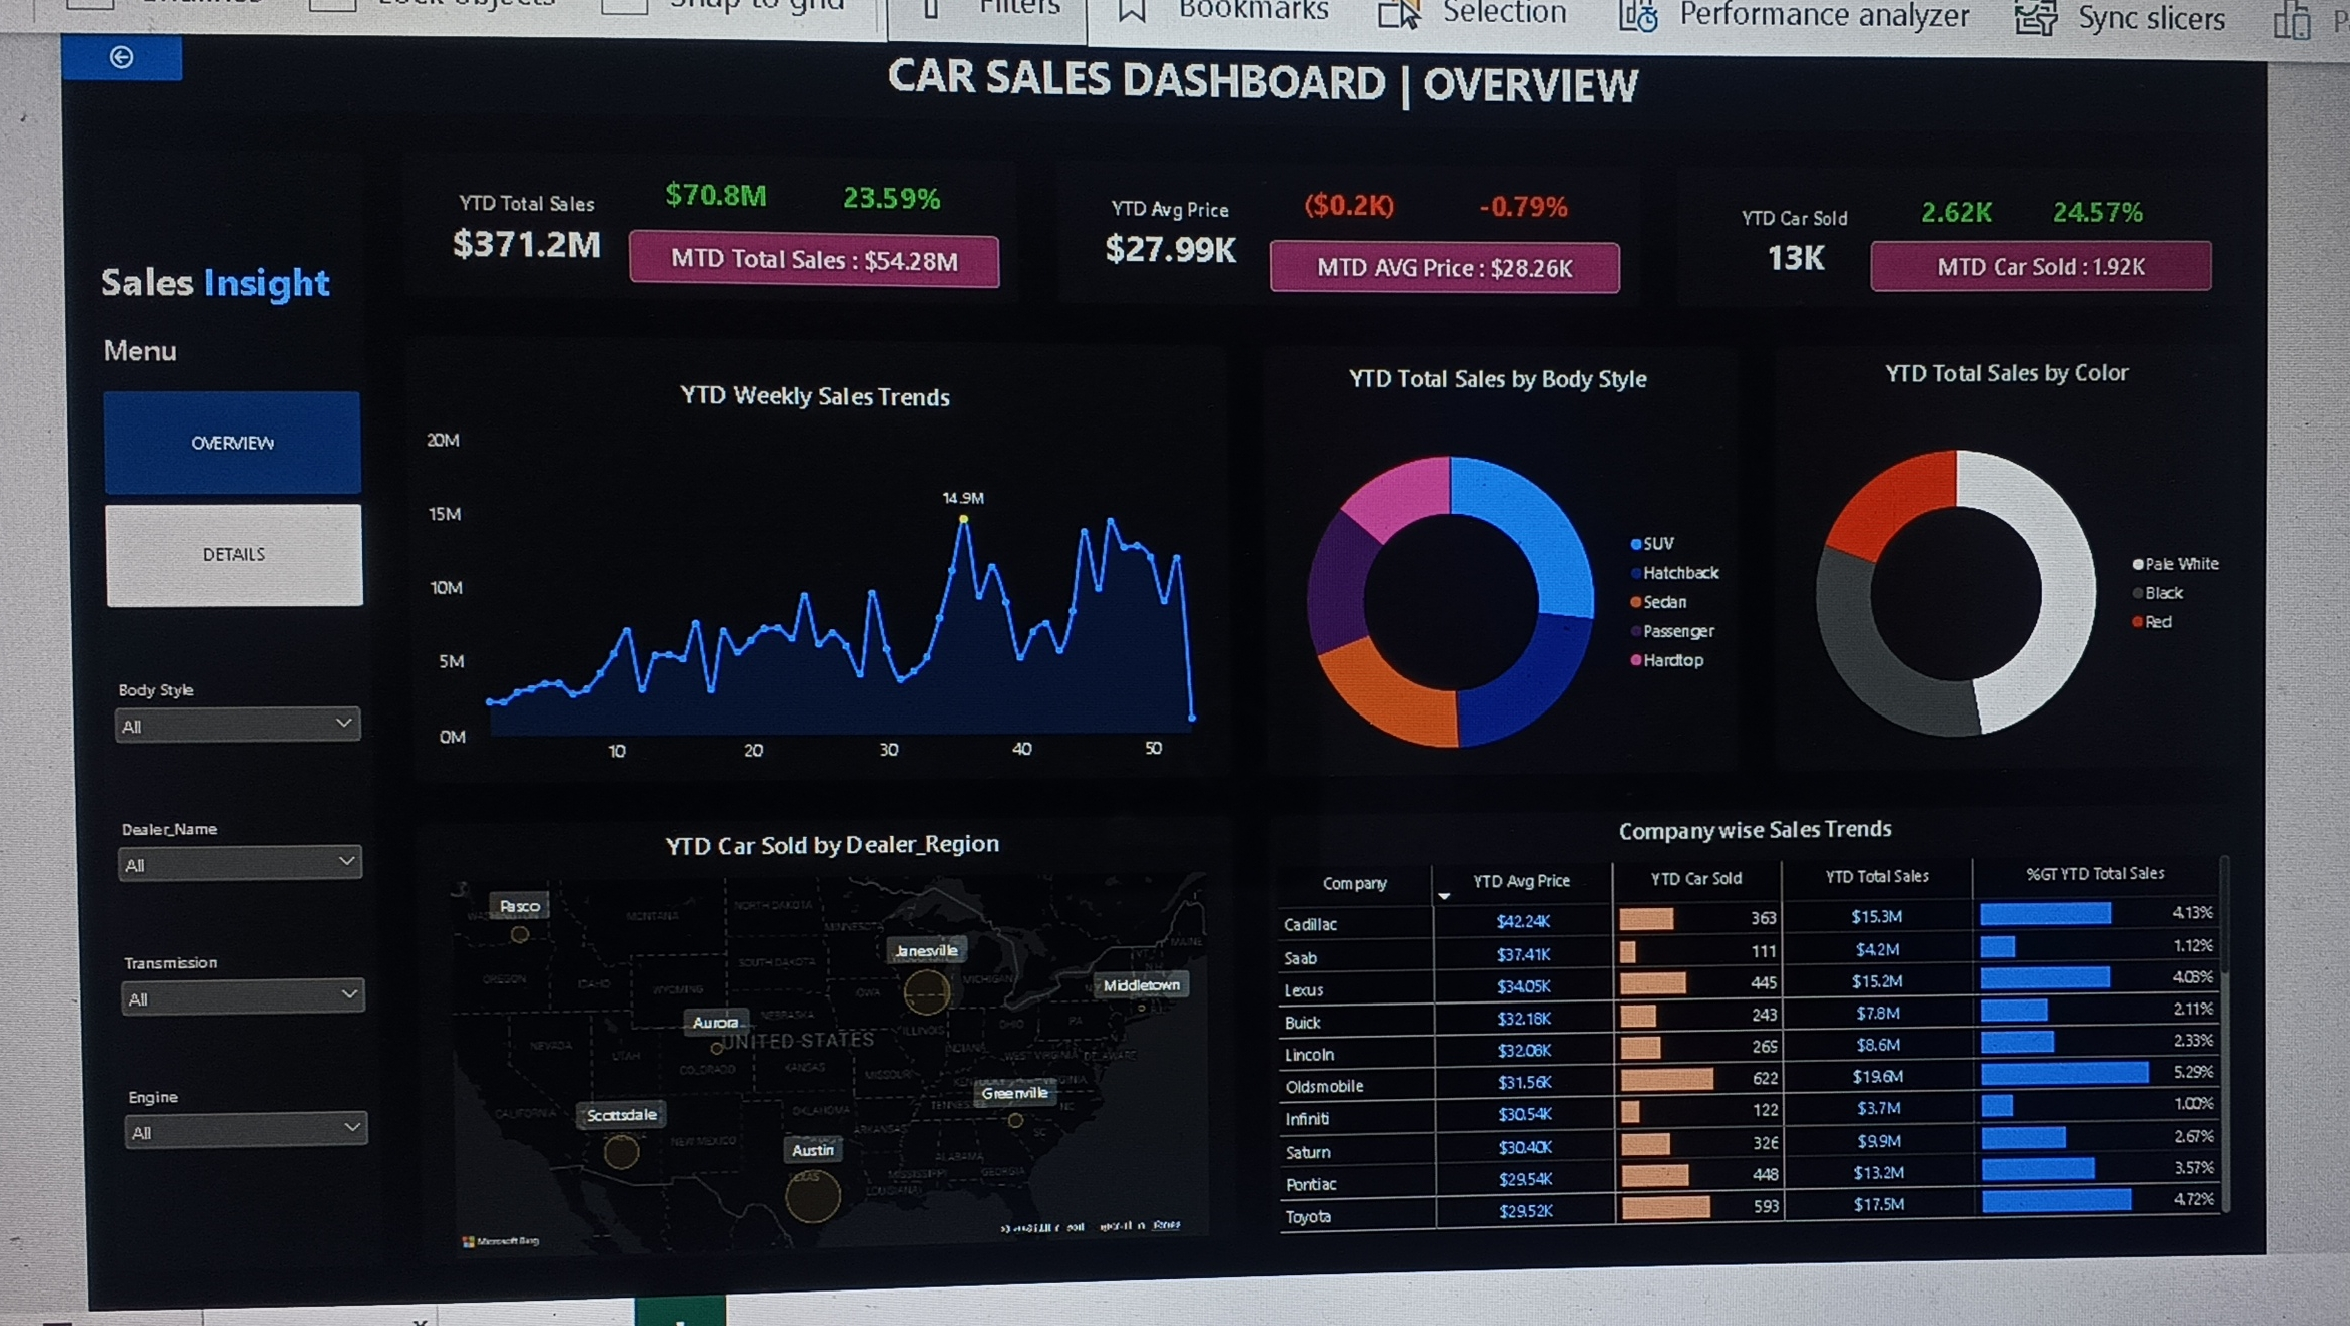

Layout of this report page (visuals, bound fields, positions):
{"tool":"powerbi","page":{"name":"OVERVIEW","canvas":[1920,1080],"ordinal":0},"visuals":[{"type":"cardVisual","fields":{"Data":["car_data.YTD Total Sales"]},"box":[190,52.5,387.5,220],"z":0},{"type":"cardVisual","fields":{"Data":["car_data.Sales Differances"]},"box":[438,98,210,62],"z":1000},{"type":"cardVisual","fields":{"Data":["car_data.YoY Sales Growth"]},"box":[600,98,180,62],"z":2000},{"type":"cardVisual","fields":{"Data":["car_data.MTD KPI"]},"box":[468,162,312,44],"z":3000},{"type":"cardVisual","fields":{"Data":["car_data.YTD Avg Price"]},"box":[736,50,387.5,220],"z":4000},{"type":"cardVisual","fields":{"Data":["car_data.Avg Diff price"]},"box":[982,98,210,62],"z":5000},{"type":"cardVisual","fields":{"Data":["car_data.YoY Avg Growth Price"]},"box":[1138,98,210,62],"z":6000},{"type":"cardVisual","fields":{"Data":["car_data.MTD AVG KPI"]},"box":[1016,162,312,44],"z":7000},{"type":"cardVisual","fields":{"Data":["car_data.YTD Car Sold"]},"box":[1292.4,52.2,387.5,220],"z":8000},{"type":"cardVisual","fields":{"Data":["car_data.Sold Car Diff"]},"box":[1528.6,102.2,210,62],"z":9000},{"type":"cardVisual","fields":{"Data":["car_data.YTD Car Sold Growth"]},"box":[1658.1,102.2,210,62],"z":10000},{"type":"cardVisual","fields":{"Data":["car_data.MTD Car Sold KPI"]},"box":[1555.8,161.3,312,44],"z":11000},{"type":"areaChart","title":"YTD Weekly Sales Trends","fields":{"Category":["Calender Table.Week"],"Y":["Sum(car_data.Price ($))","car_data.Max Point"]},"box":[279.4,272.6,688.2,365.7],"z":12000},{"type":"donutChart","fields":{"Category":["car_data.Body Style"],"Y":["car_data.YTD Total Sales"]},"box":[997.1,252.1,445.2,408.8],"z":13000},{"type":"donutChart","fields":{"Category":["car_data.Color"],"Y":["car_data.YTD Total Sales"]},"box":[1456.7,250,445.2,408.8],"z":14000},{"type":"map","fields":{"Category":["car_data.Dealer_Region"],"Size":["car_data.YTD Car Sold"]},"box":[293,661,674.6,397.5],"z":15000},{"type":"tableEx","title":"Company wise Sales Trends","fields":{"Values":["car_data.Company","car_data.YTD Avg Price","car_data.YTD Car Sold","car_data.YTD Total Sales1","car_data.YTD Total Sales"]},"box":[998,658,904,400],"z":16000},{"type":"textbox","box":[630,0,775,80],"z":16001},{"type":"actionButton","box":[0,0,100,40],"z":16003},{"type":"slicer","fields":{"Values":["car_data.Dealer_Name"]},"box":[29.5,658.7,212.5,112.5],"z":16004},{"type":"slicer","fields":{"Values":["car_data.Transmission"]},"box":[29.5,772.2,212.5,112.5],"z":16005},{"type":"slicer","fields":{"Values":["car_data.Engine"]},"box":[29.5,885.8,212.5,112.5],"z":16006},{"type":"slicer","fields":{"Values":["car_data.Body Style"]},"box":[29.5,540.6,212.9,87.1],"z":16007},{"type":"textbox","box":[29.5,184,243,65.9],"z":16008},{"type":"textbox","box":[29.5,249.8,243,150],"z":16009},{"type":"pageNavigator","box":[29.5,299.8,213.5,184],"z":16010}]}

Visuals, with their boxes on the page's 1920x1080 design canvas (x1, y1, x2, y2). These are canvas units, not pixel positions in the 2350x1326 screenshot, which may show the page scaled, cropped or inside an application window:
cardVisual - car_data.YTD Total Sales: 190:52:578:272
cardVisual - car_data.Sales Differances: 438:98:648:160
cardVisual - car_data.YoY Sales Growth: 600:98:780:160
cardVisual - car_data.MTD KPI: 468:162:780:206
cardVisual - car_data.YTD Avg Price: 736:50:1124:270
cardVisual - car_data.Avg Diff price: 982:98:1192:160
cardVisual - car_data.YoY Avg Growth Price: 1138:98:1348:160
cardVisual - car_data.MTD AVG KPI: 1016:162:1328:206
cardVisual - car_data.YTD Car Sold: 1292:52:1680:272
cardVisual - car_data.Sold Car Diff: 1529:102:1739:164
cardVisual - car_data.YTD Car Sold Growth: 1658:102:1868:164
cardVisual - car_data.MTD Car Sold KPI: 1556:161:1868:205
"YTD Weekly Sales Trends" areaChart: 279:273:968:638
donutChart - car_data.Body Style x car_data.YTD Total Sales: 997:252:1442:661
donutChart - car_data.Color x car_data.YTD Total Sales: 1457:250:1902:659
map - car_data.Dealer_Region x car_data.YTD Car Sold: 293:661:968:1058
"Company wise Sales Trends" tableEx: 998:658:1902:1058
textbox: 630:0:1405:80
actionButton: 0:0:100:40
slicer - car_data.Dealer_Name: 30:659:242:771
slicer - car_data.Transmission: 30:772:242:885
slicer - car_data.Engine: 30:886:242:998
slicer - car_data.Body Style: 30:541:242:628
textbox: 30:184:272:250
textbox: 30:250:272:400
pageNavigator: 30:300:243:484
